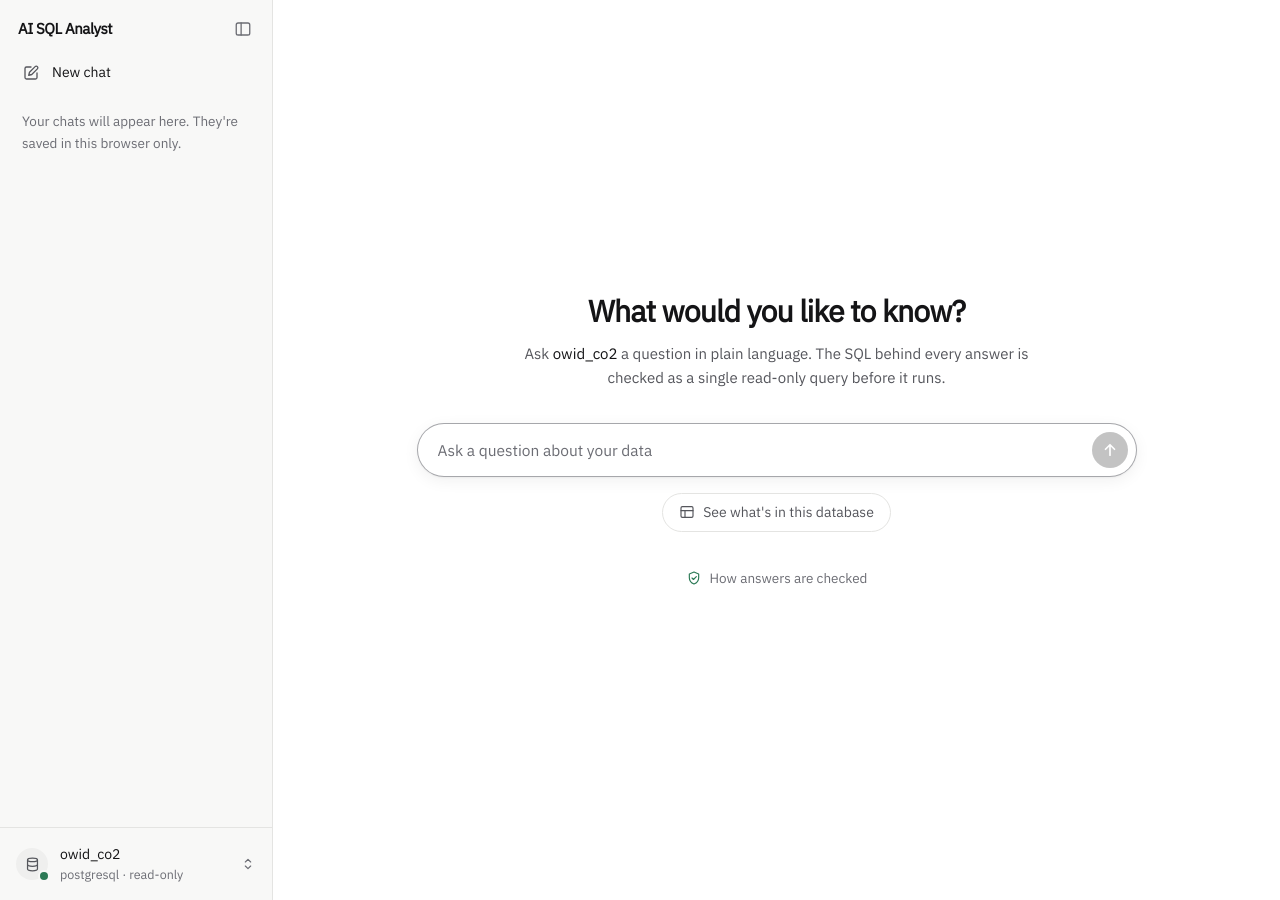
Scenario: App › stops waiting for an answer and offers to ask again
This screenshot has width=1280, height=900.
Type "A slow question" into the text box labelled "Ask a question about your data". click: (760, 450)
box: [438,432,1084,468]
Then press Enter
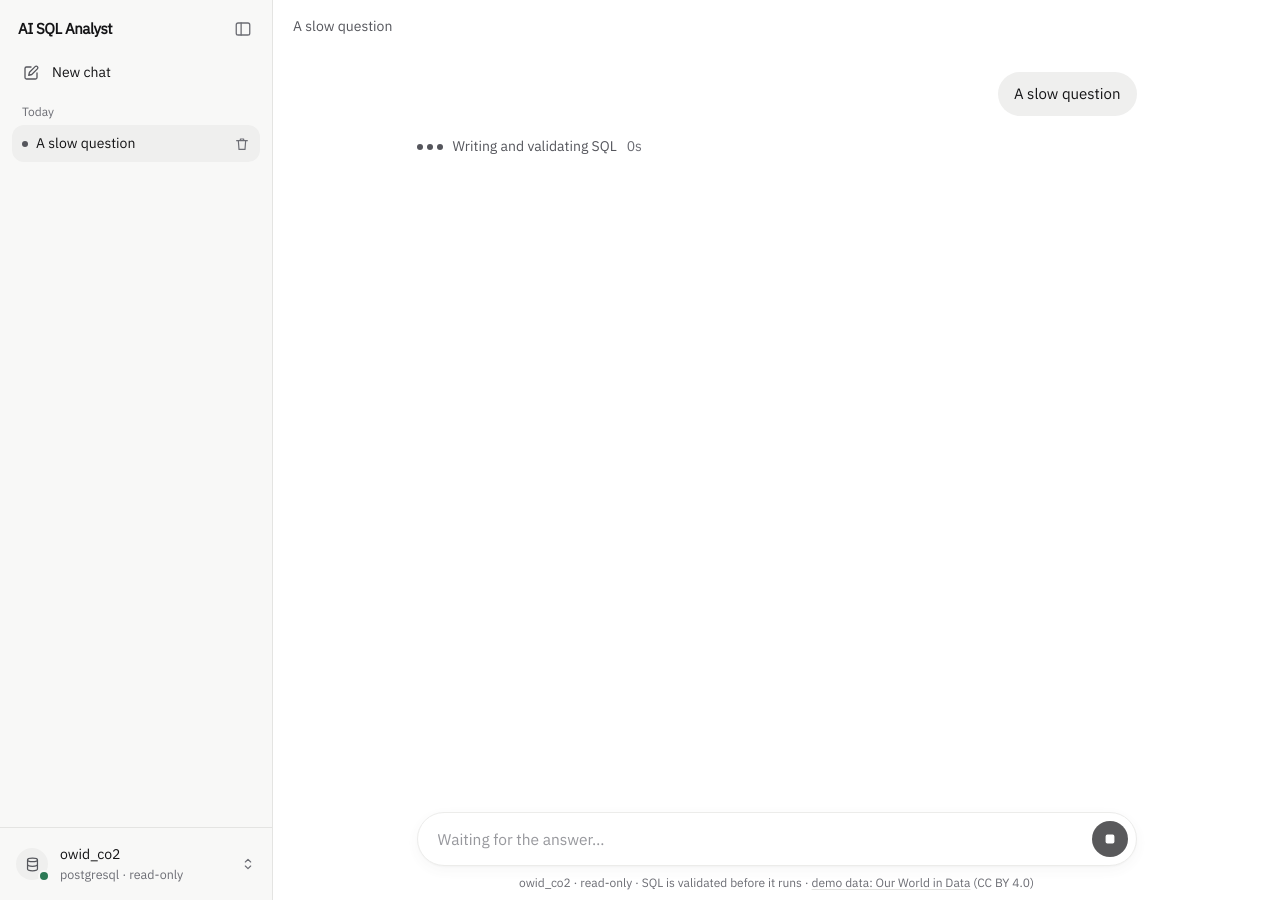
Click the button named "stop waiting for the answer". click: click(1110, 839)
box: [1092,821,1128,857]
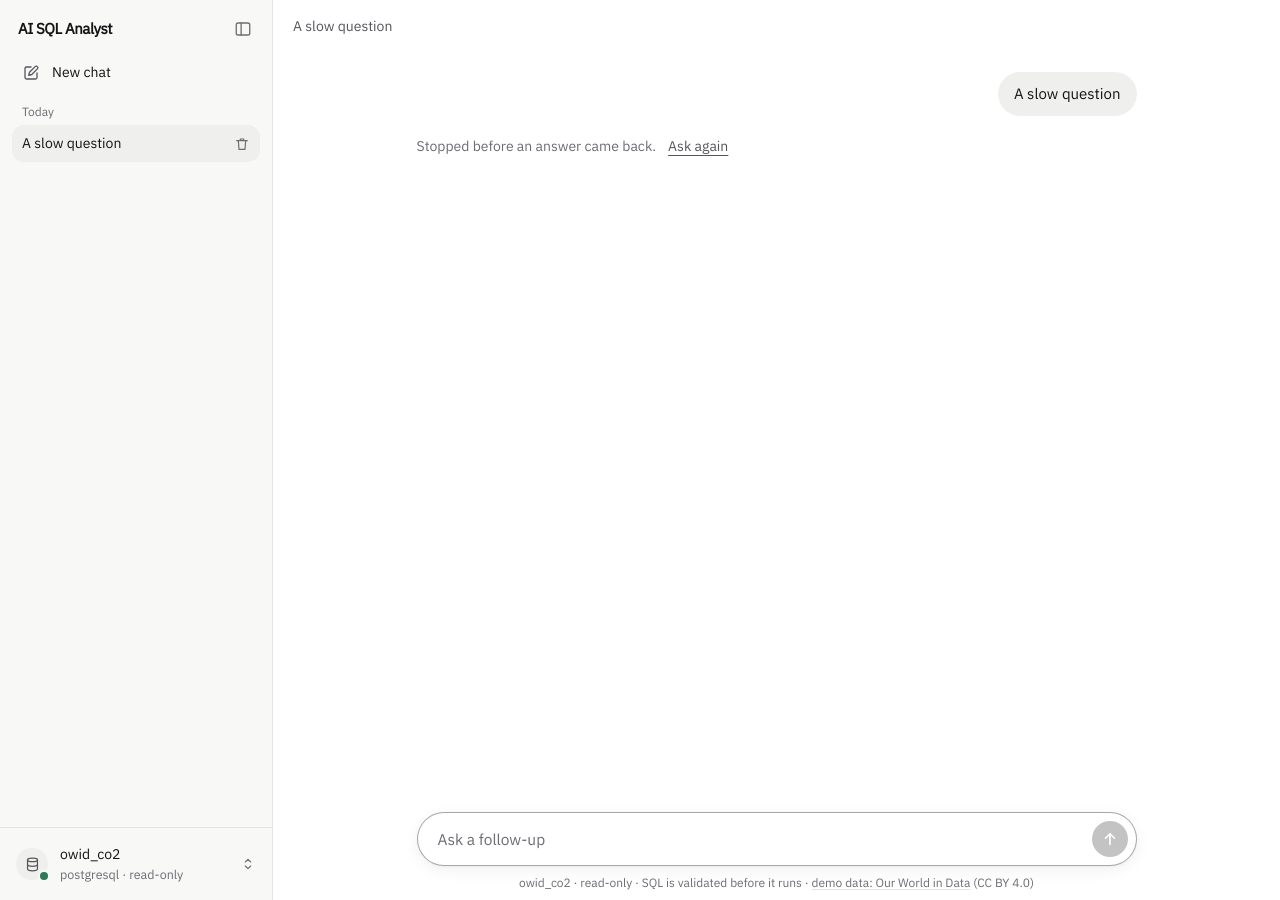
Check: the text "Stopped before an answer came back. Ask again" is shown, box [416,136,728,157]
Check: the button "Ask again" is shown, box [668,136,728,157]
Check: the button named "send question" is shown, box [1092,821,1128,857]
